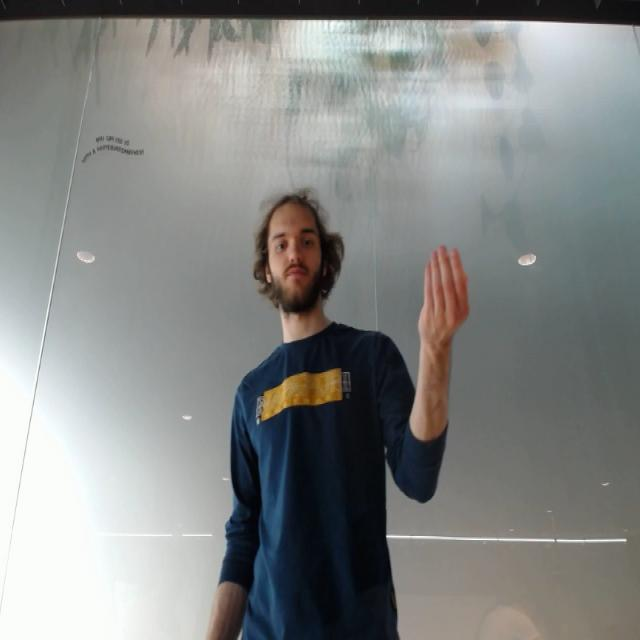forward: (413, 235, 481, 346)
